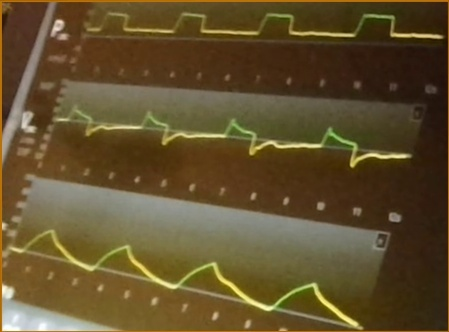Premature_cycling Flow: (58, 101, 410, 170)
Premature_cycling Volume: (13, 223, 362, 328)
